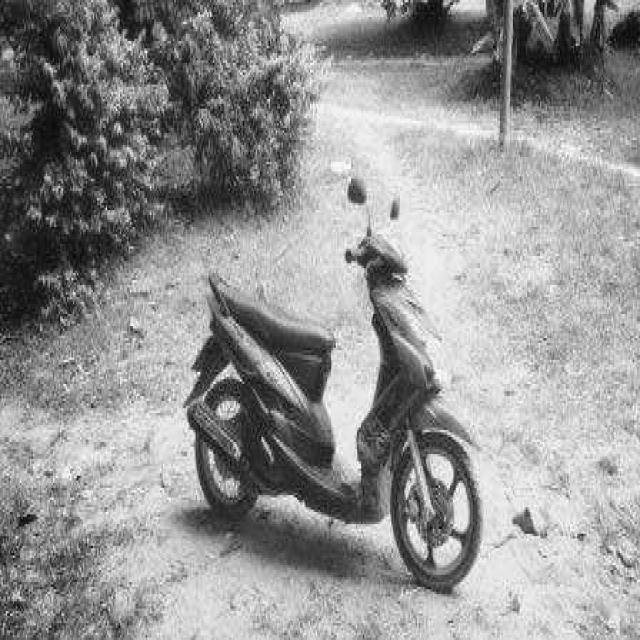Motorcycle: (185, 228, 480, 591)
